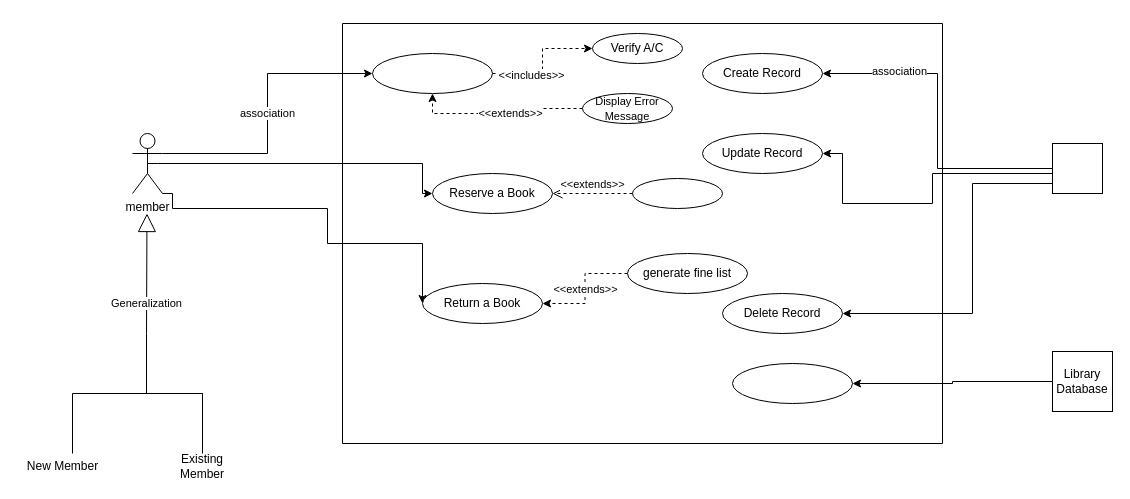
Image size: 1130x499. Some labels were removed from this diagram. The box of each missing label's shape, as (x1, y1, x2, y2) in pixels:
Library: (1052, 142, 1102, 194)
Library System: (342, 22, 942, 444)
Login: (372, 52, 492, 94)
Notify: (632, 178, 722, 208)
Transact: (732, 362, 852, 404)
